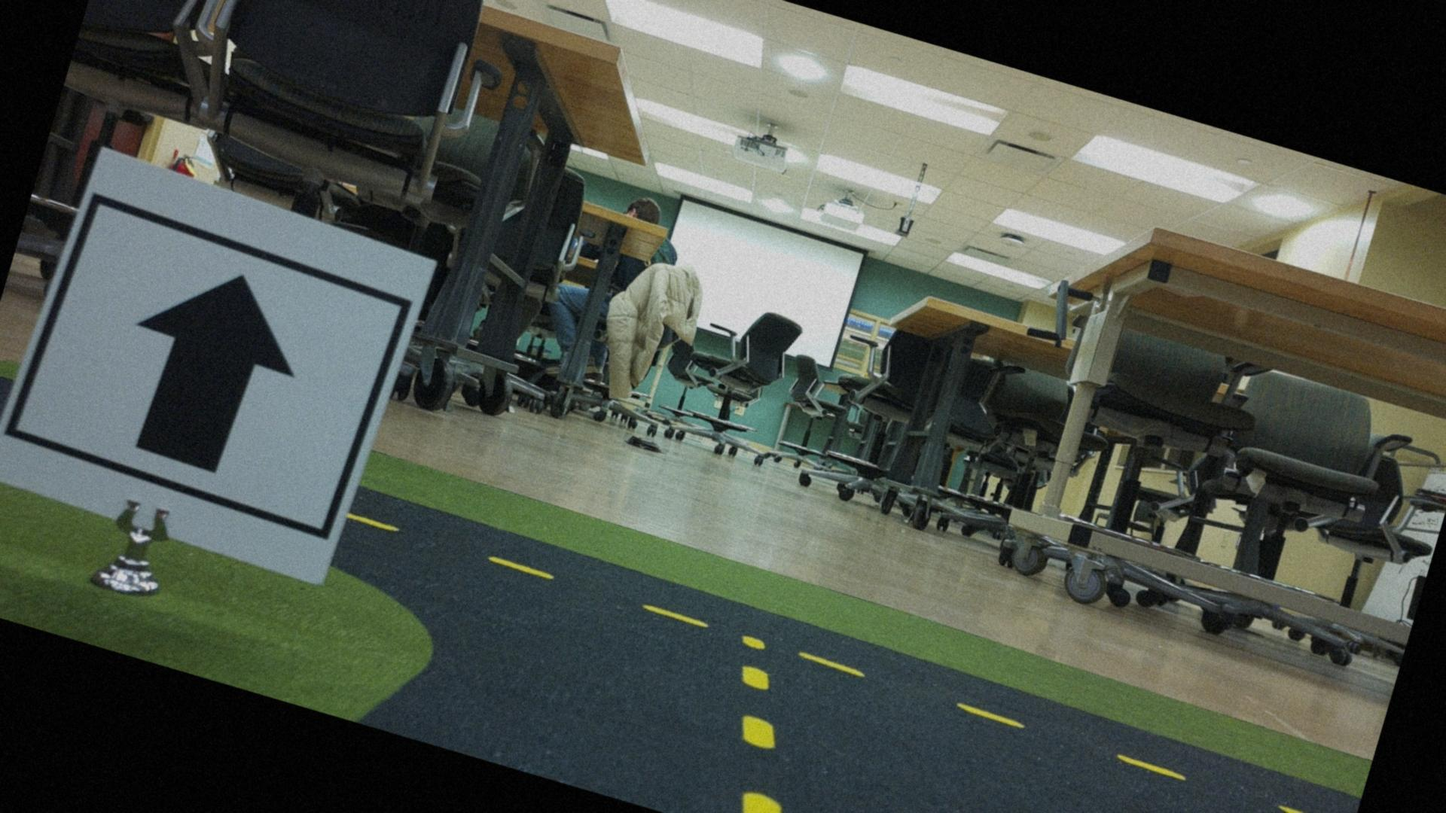gostraight: (11, 181, 415, 565)
yellowline: (342, 510, 1359, 812), (692, 634, 834, 812)
